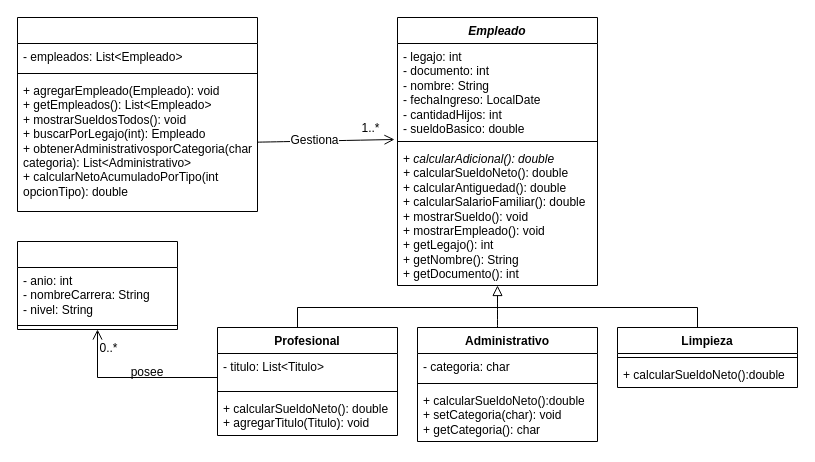
Image size: 815x462. Some labels were removed from this diagram. Here are the shapes that lost their labels. From the top down, the box of each, then its label:
(16, 16, 258, 212): ManagerEmpleado
(16, 240, 178, 330): Titulo
